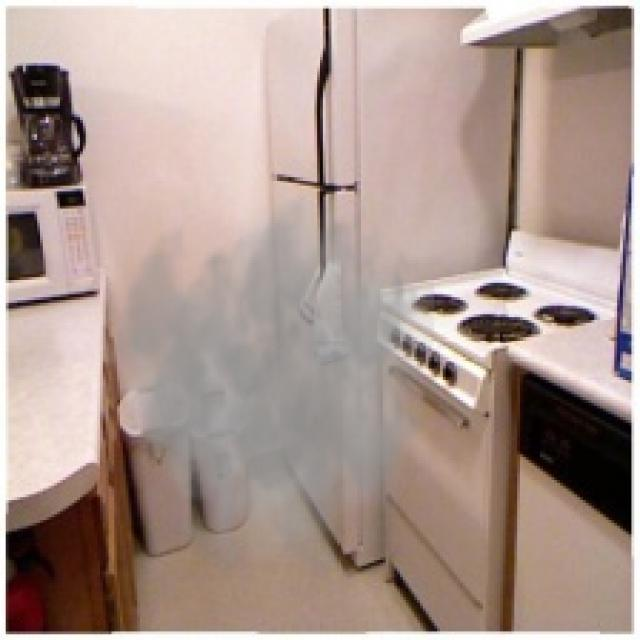Smoke: (88, 188, 434, 580)
